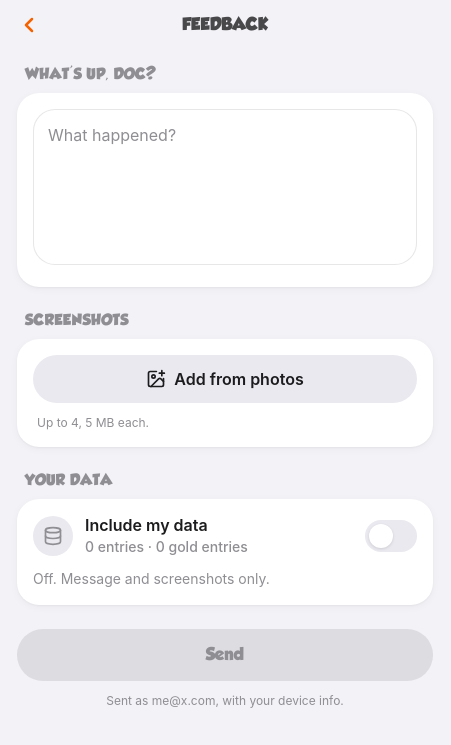
it: Feedback: including account data › can be turned back off again
Expected: the button "Send" is shown, [17,629,433,681]
Step 1. Click the switch named "Include my data" → click(391, 536), box [365,520,417,552]
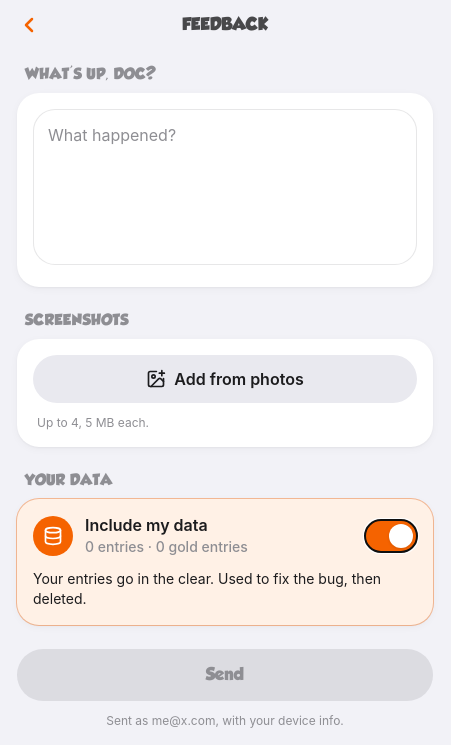
Step 2. Click the switch named "Include my data" → click(391, 536), box [365,520,417,552]
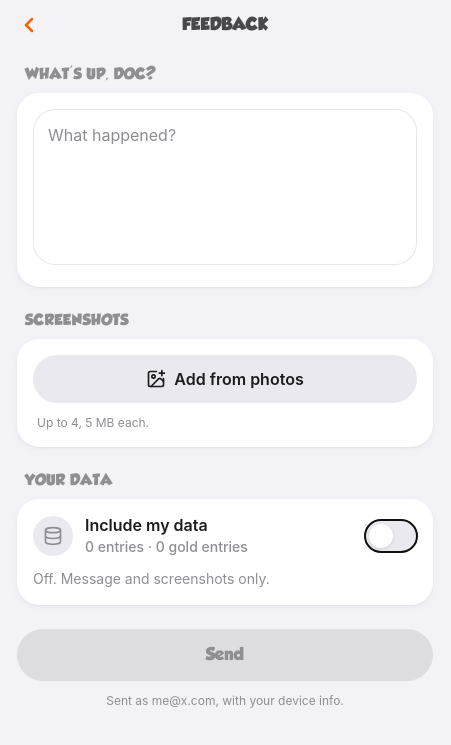
Expected: the text "Off. Message and screenshots only." is shown, [33,570,270,587]
